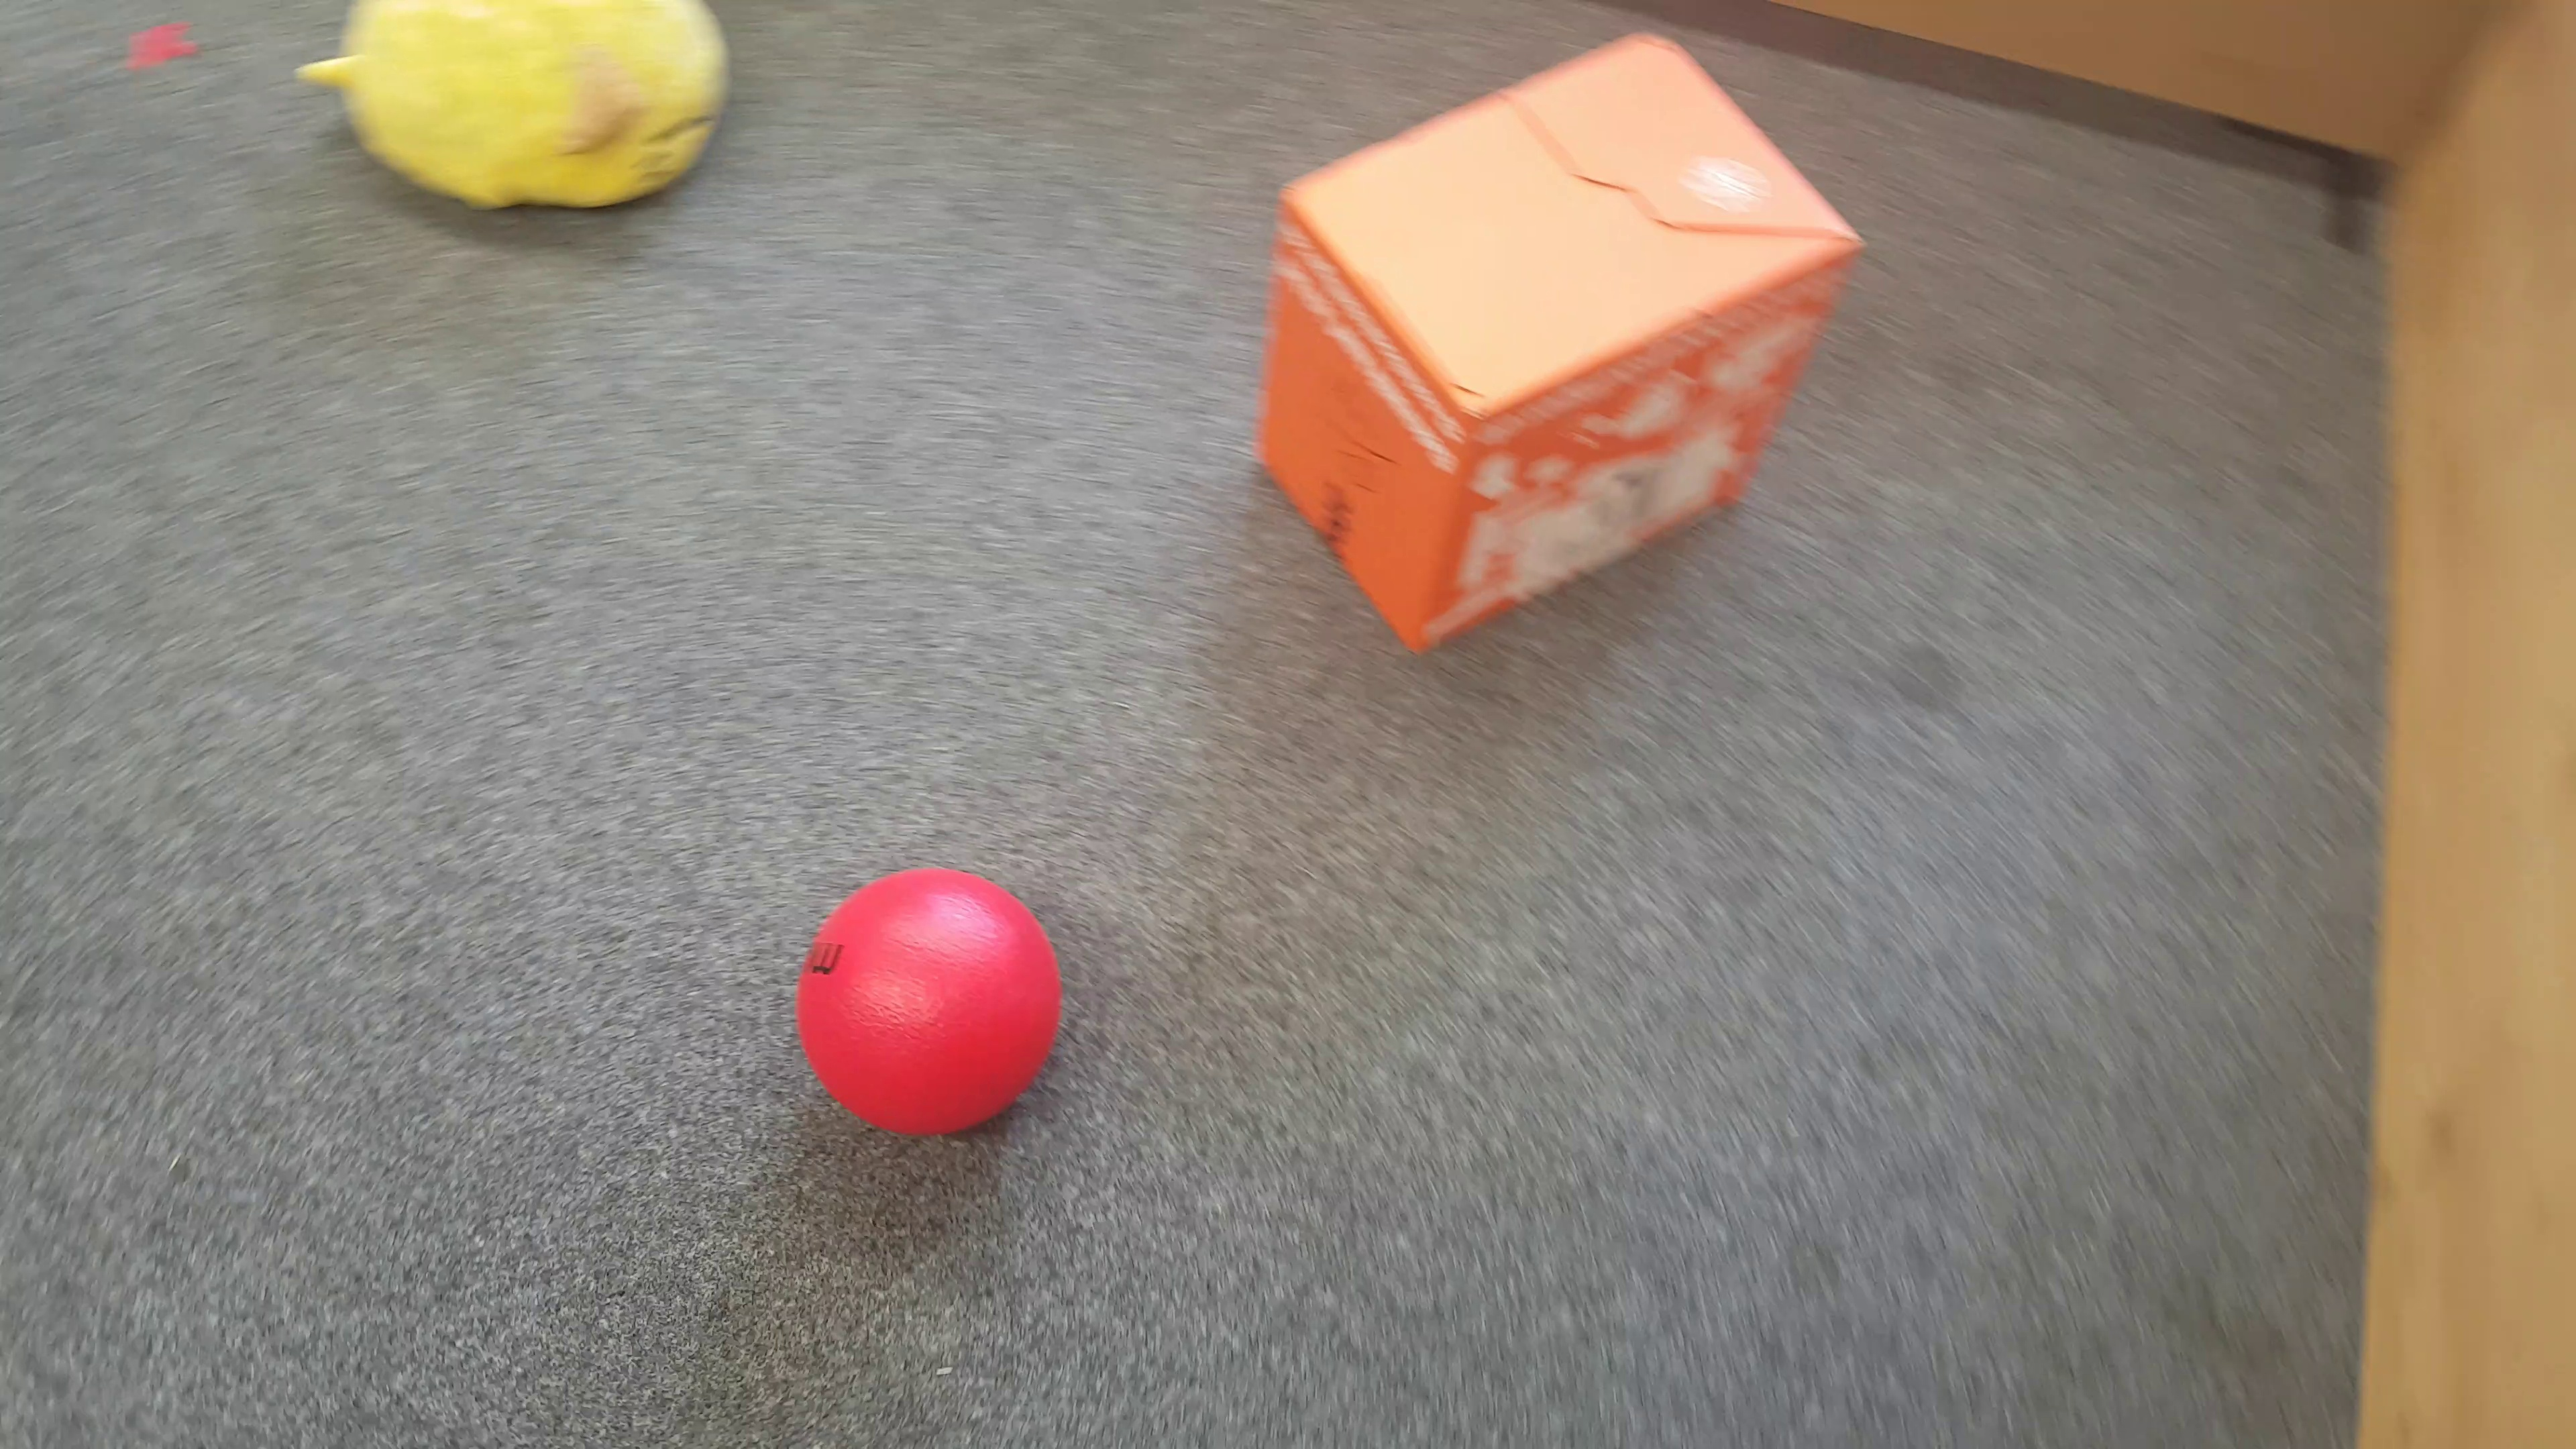grasp: (295, 5, 738, 209)
kick: (800, 867, 1067, 1132)
push: (1253, 28, 1872, 660)
